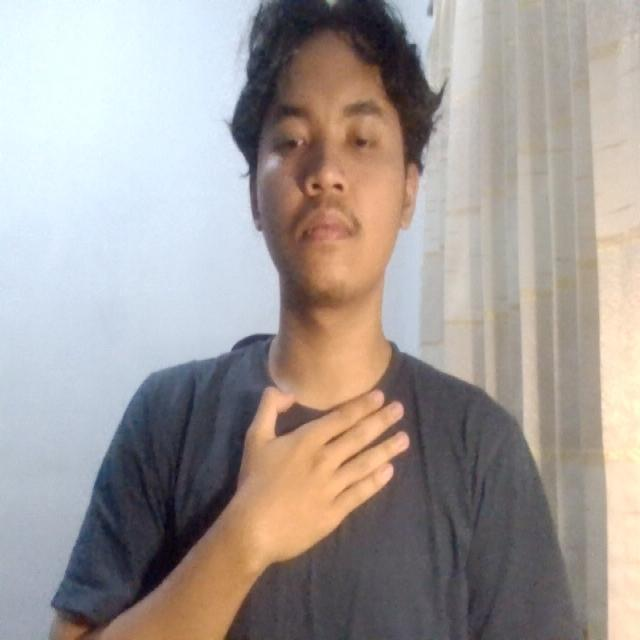Nama: (226, 356, 436, 563)
